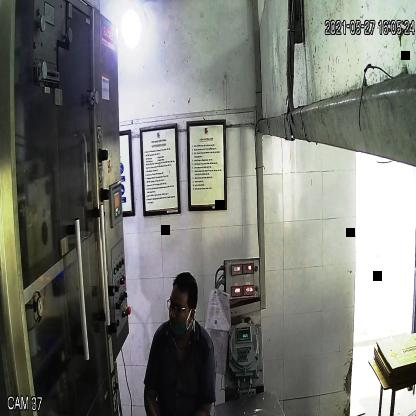goggles: (163, 296, 195, 318)
